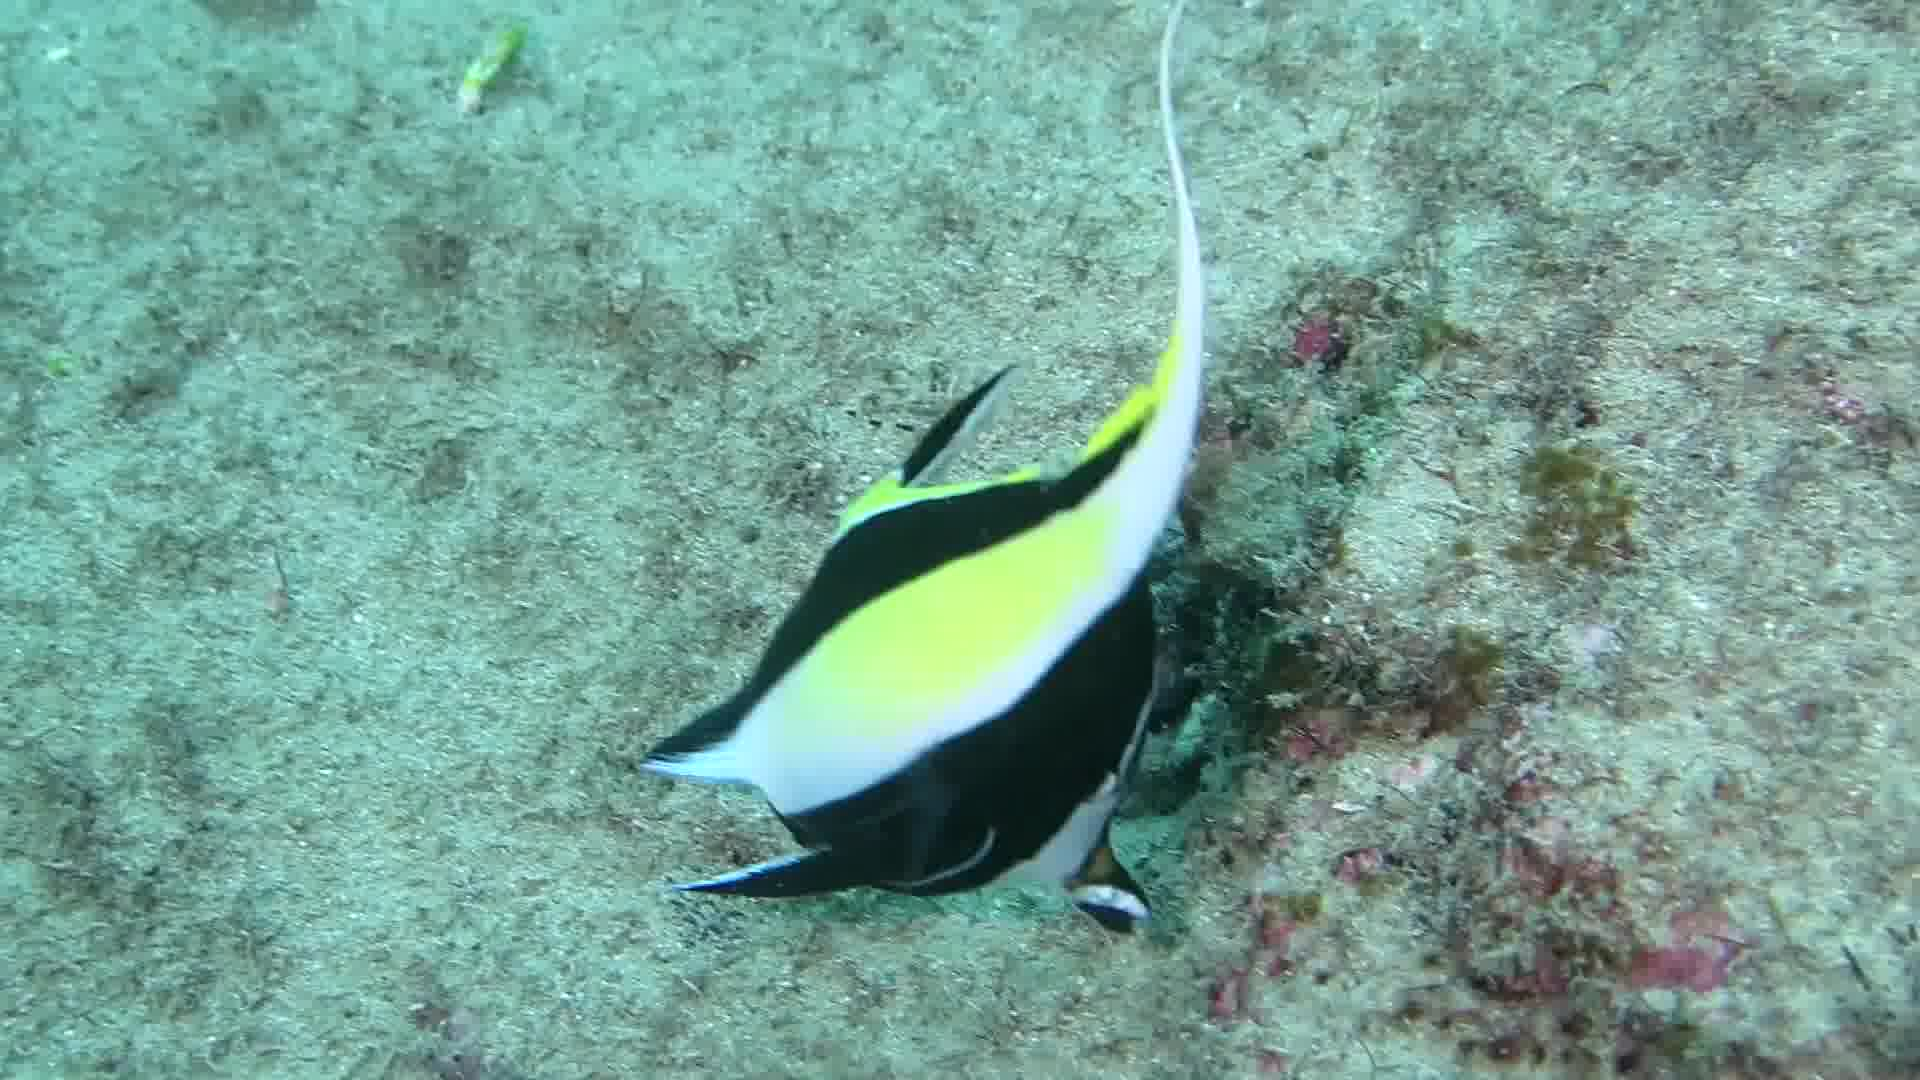Zanclus cornutus: (593, 322, 1358, 947)
